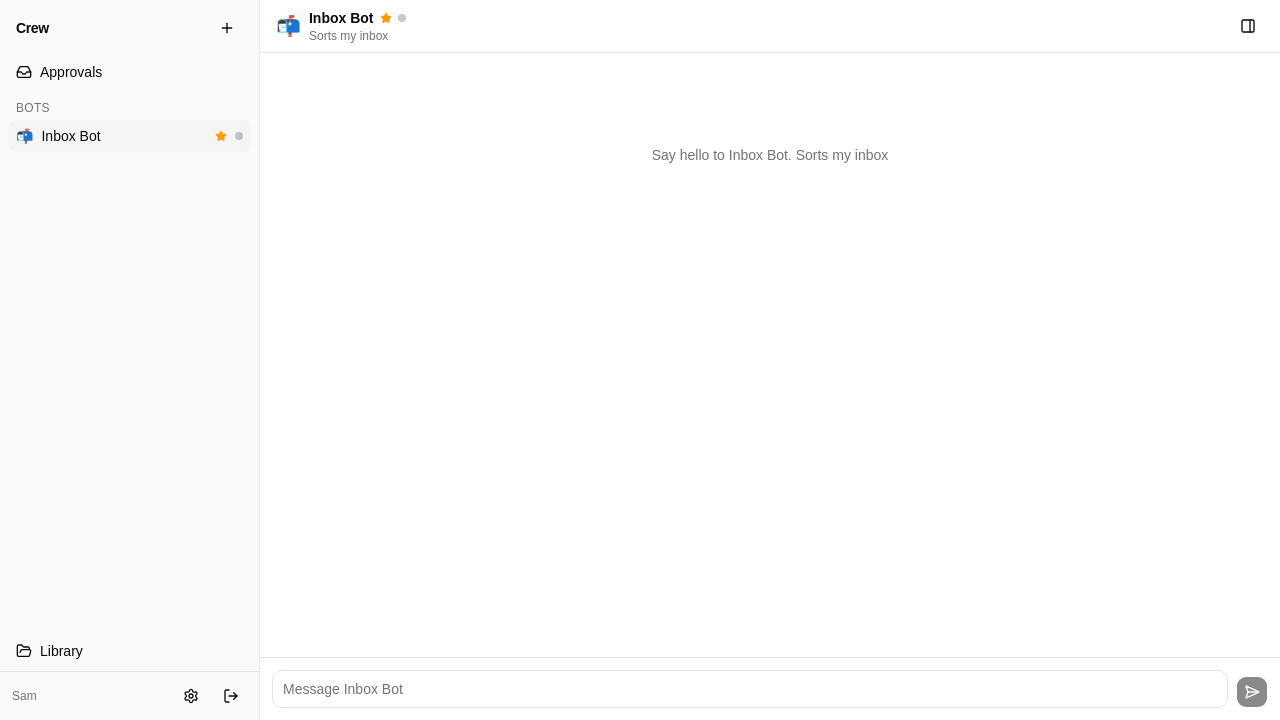
Test: a Bot can be deleted from its settings, after a confirm
Expected: the element showing "Say hello to Inbox Bot. Sorts my inbox" is shown, [652,147,888,163]
Click the button named "Toggle details": [1248, 26] box [1232,10,1264,42]
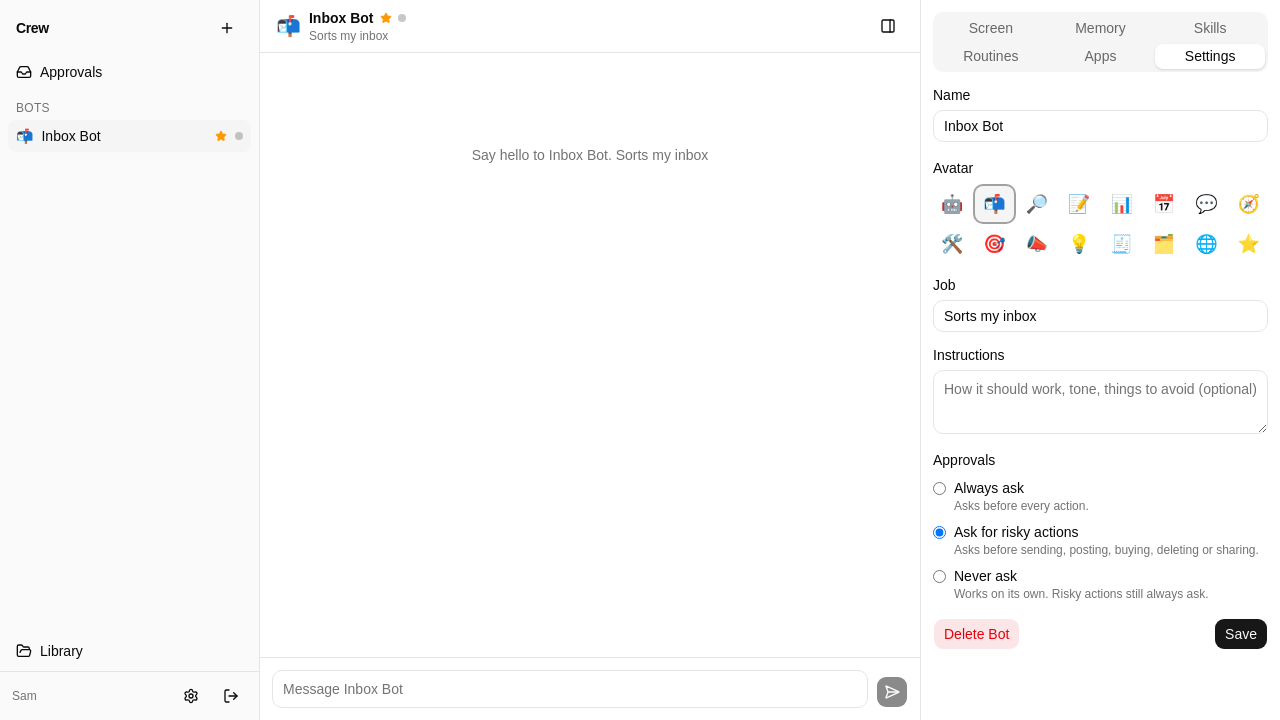
Expected: the field labelled "Name" holds "Inbox Bot", [933,110,1268,142]
Click the button "Delete Bot": [977, 634] box [933,618,1020,650]
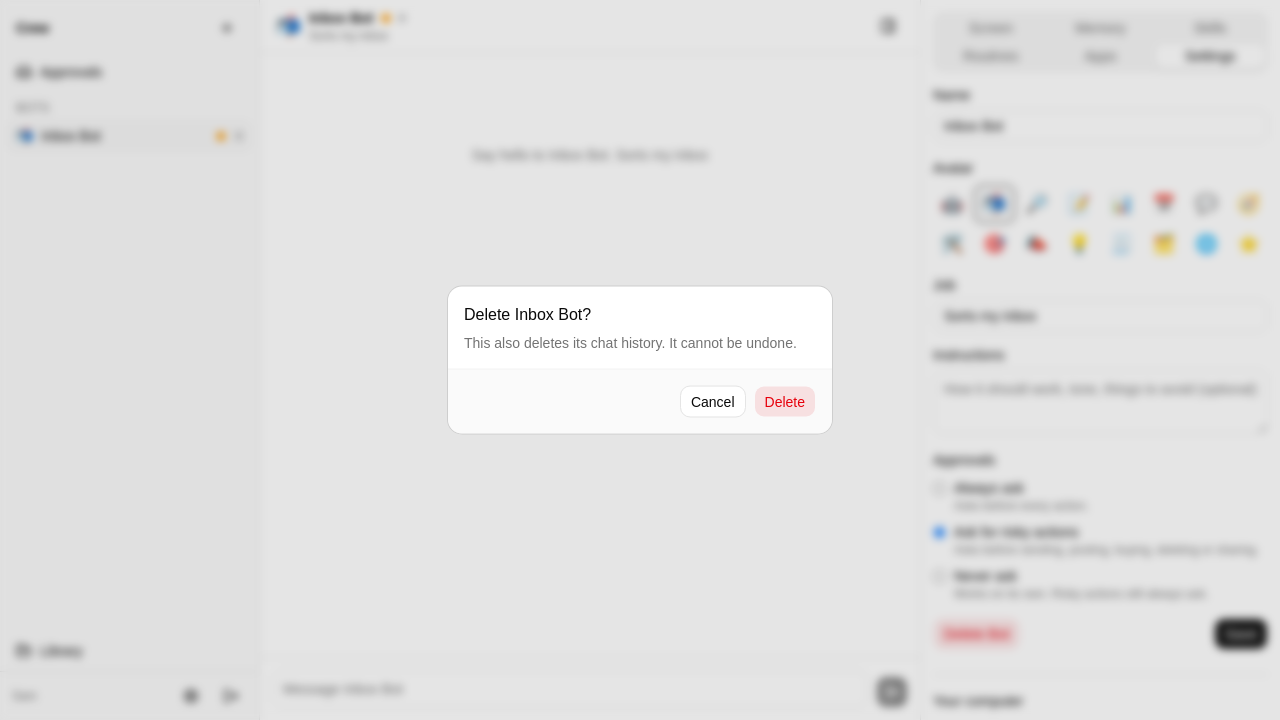
Click the button "Delete": [785, 402] box [754,386,816,418]
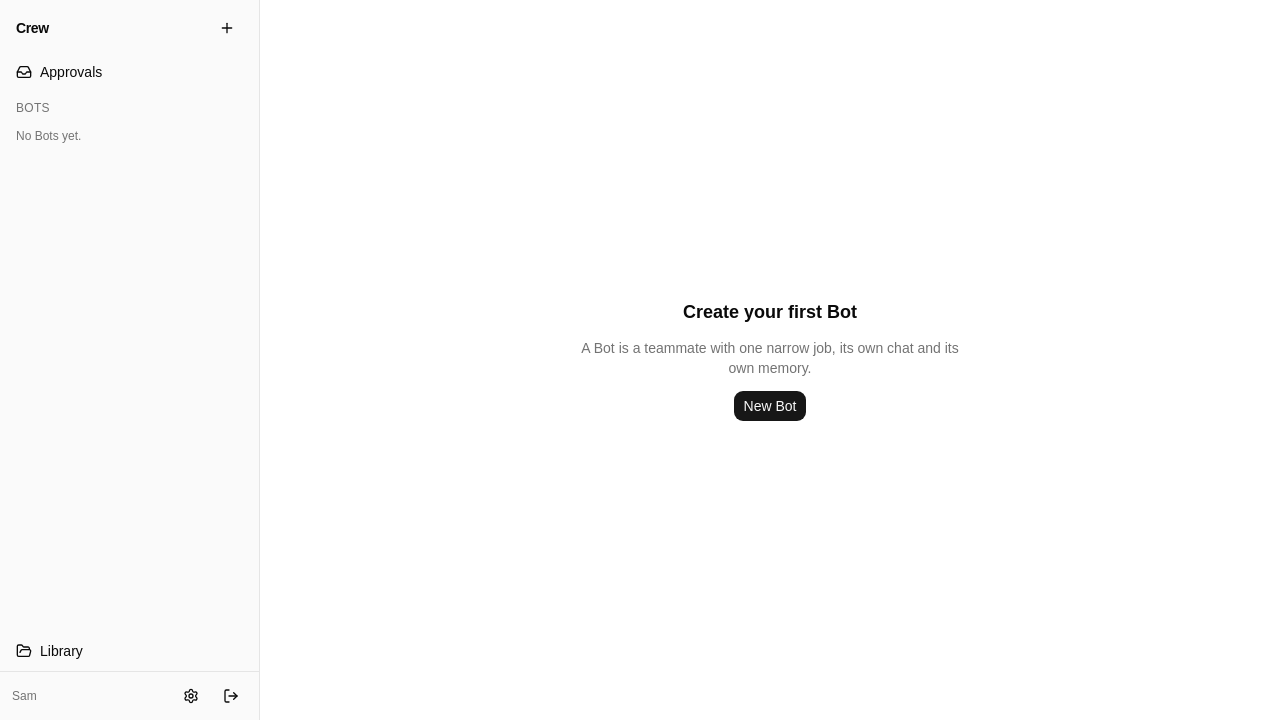
Expected: the heading "Create your first Bot" is shown, [683,298,857,326]
